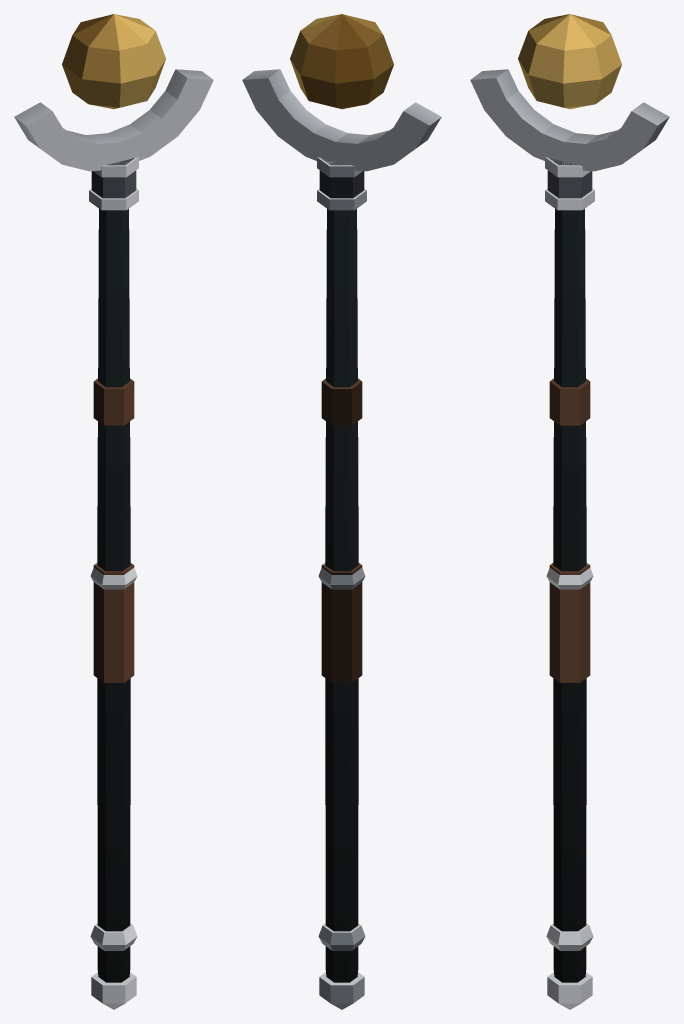
File: mage_soulstaff_2.gltf
3 views of the same model, side by side, from view 1: azimuth 30°, elevation 25°; view 2: azimuth 150°, elevation 25°; view 3: azimuth 330°, elevation 25° (orthographic).
Visible parts, largest first — view 1: mage_soulstaff_2; view 2: mage_soulstaff_2; view 3: mage_soulstaff_2.
Part boxes in pixels (x1,y1,x2,y2): mage_soulstaff_2: (14,14,213,1009); mage_soulstaff_2: (242,14,441,1009); mage_soulstaff_2: (470,14,669,1009).
Bounding box in the file's own units: 0.5341 × 2.71 × 0.2395.
1 material, 1 textured.
